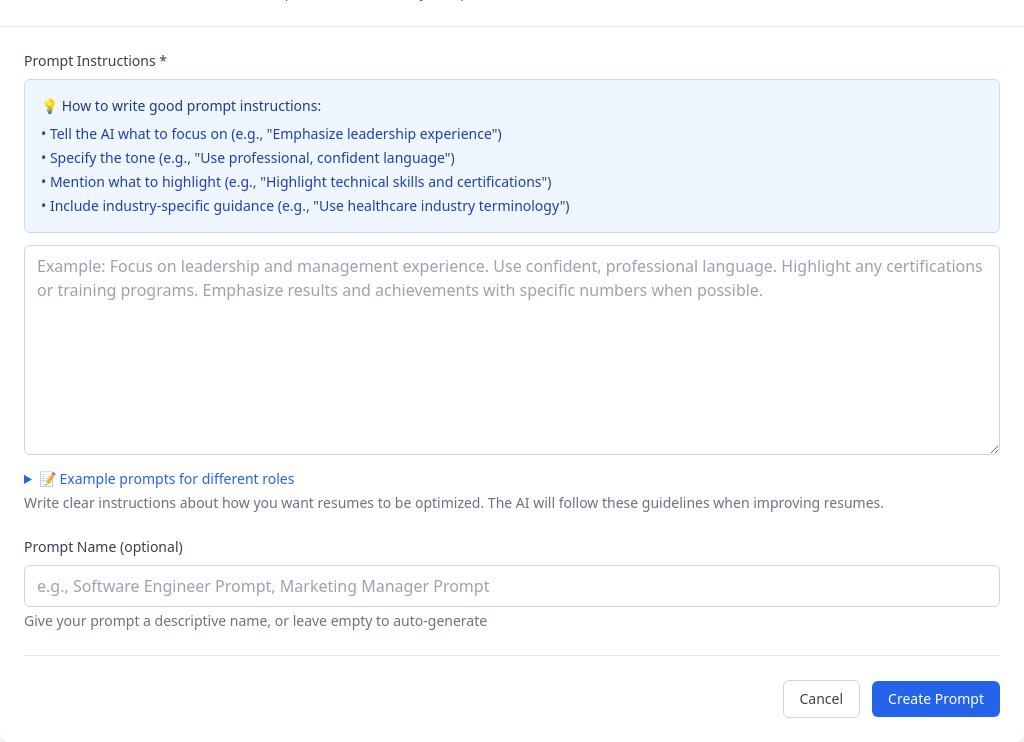
PromptEditor › validates required fields
The image size is (1024, 742).
(page scrolled)
Click the button "Create Prompt" at (936, 699), box [872,681,1000,717]
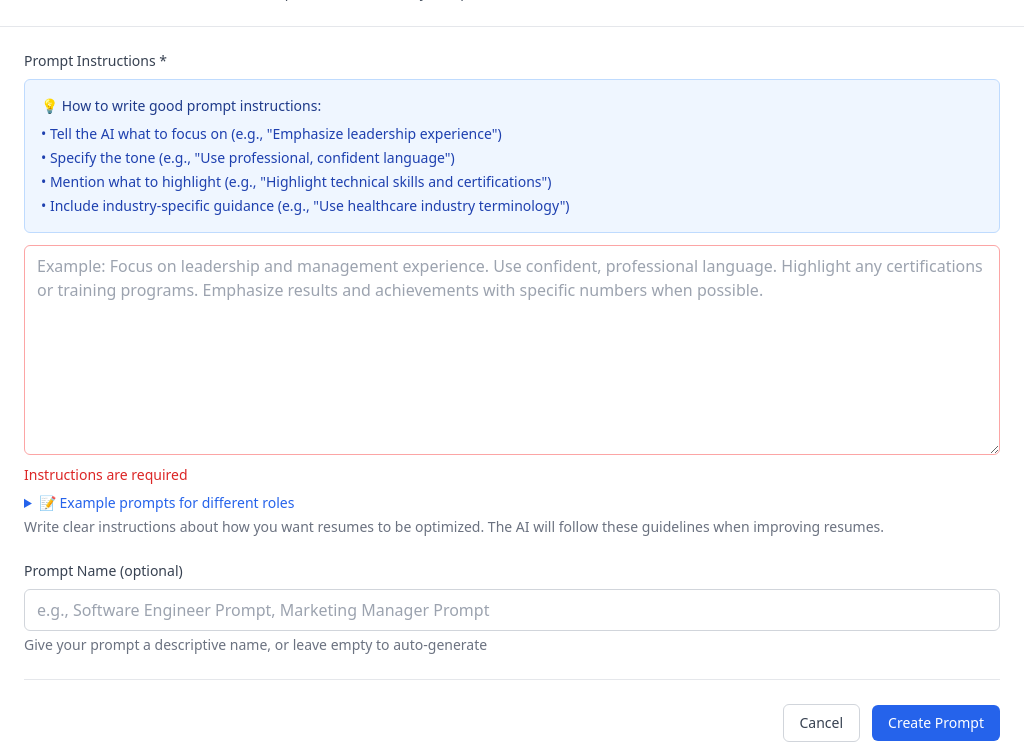
expect the text "Instructions are required" is shown: met, box [24,465,188,484]
